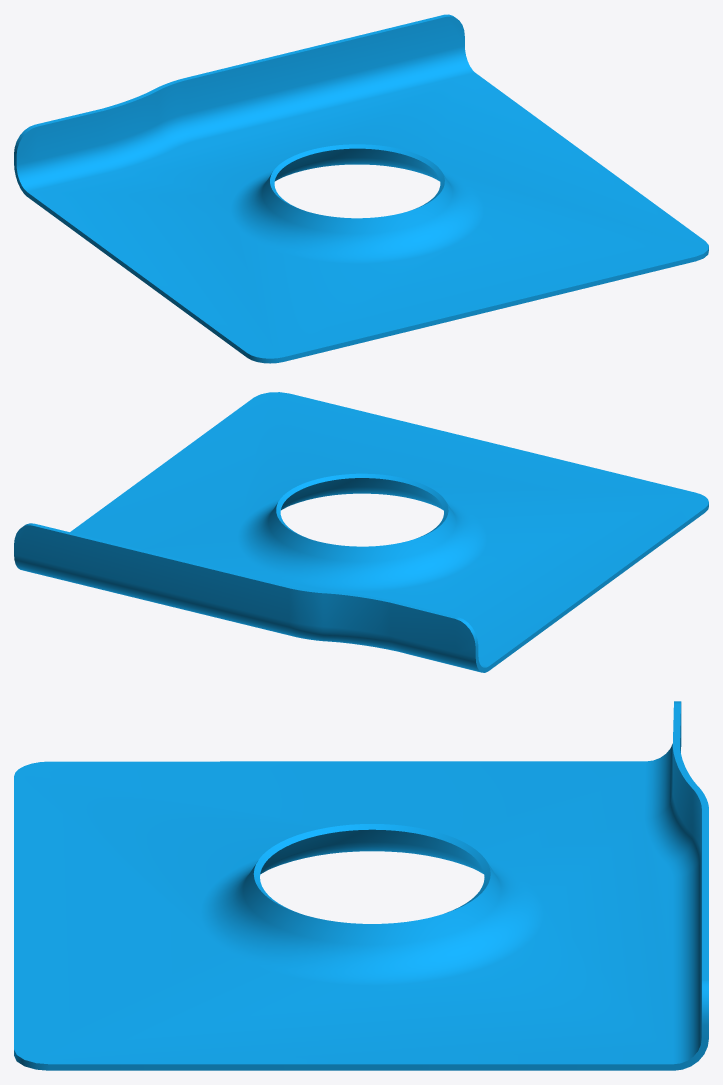
File: czesc_konstrukcyjna.glb
The picture shows the model from 3 angles, top to bottom: view 1: azimuth 30°, elevation 25°; view 2: azimuth 150°, elevation 25°; view 3: azimuth 270°, elevation 25°; orthographic projection. The views are drawn at different scales.
Visible parts, largest first — view 1: Plane; view 2: Plane; view 3: Plane.
Part boxes in pixels (<box>): Plane: <box>14,14,708,363</box>; Plane: <box>14,392,708,672</box>; Plane: <box>14,701,708,1070</box>.
Size of the model in its own units: 10 by 1.2 by 9.7.
